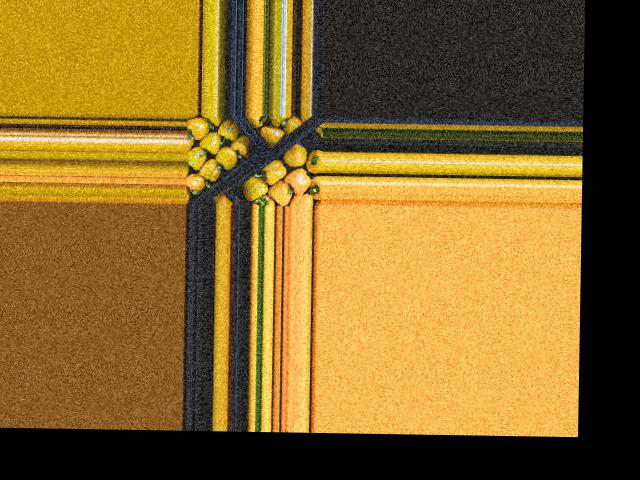bell_pepper: (187, 113, 214, 137)
